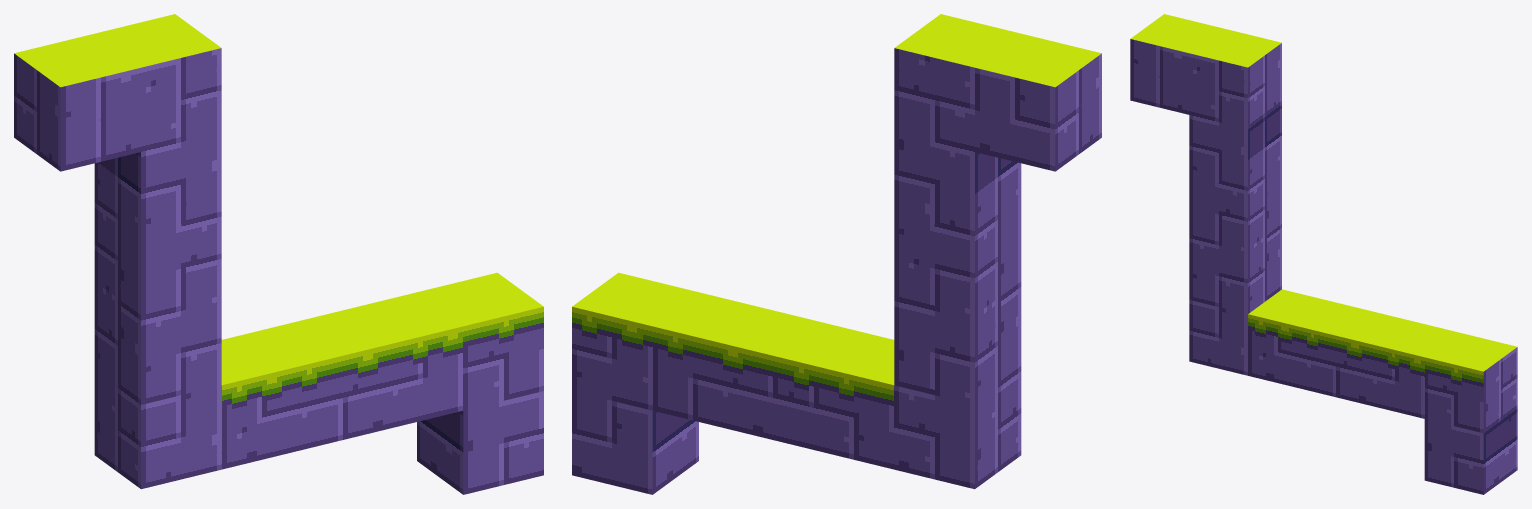
Rendered from stargate_ruin_bao.fezao.glb.
3 views of the same model, side by side, from view 1: azimuth 30°, elevation 25°; view 2: azimuth 150°, elevation 25°; view 3: azimuth 330°, elevation 25° (orthographic). The views are drawn at different scales.
Visible parts, largest first — view 1: STARGATE_RUIN_BAO; view 2: STARGATE_RUIN_BAO; view 3: STARGATE_RUIN_BAO.
Part boxes in pixels (box(x1,y1,x2,y2)): STARGATE_RUIN_BAO: box(14, 14, 543, 494); STARGATE_RUIN_BAO: box(572, 14, 1101, 494); STARGATE_RUIN_BAO: box(1130, 14, 1517, 494).
Bounding box in the file's own units: 6 × 6 × 1.
1 material, 1 textured.
